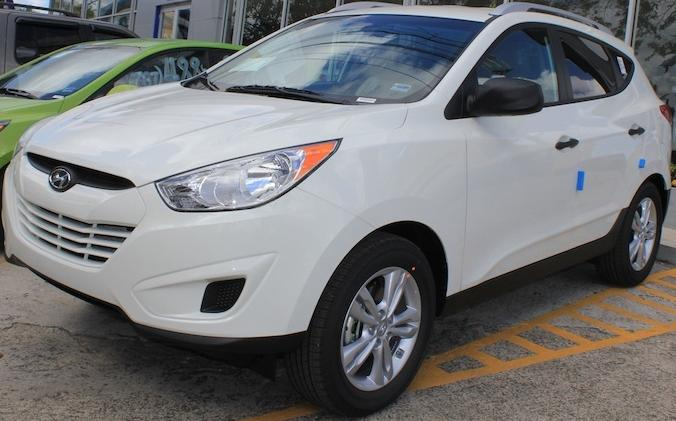front_view: (0, 127, 350, 339)
headlight: (154, 129, 348, 219)
side_glass: (434, 13, 641, 128)
